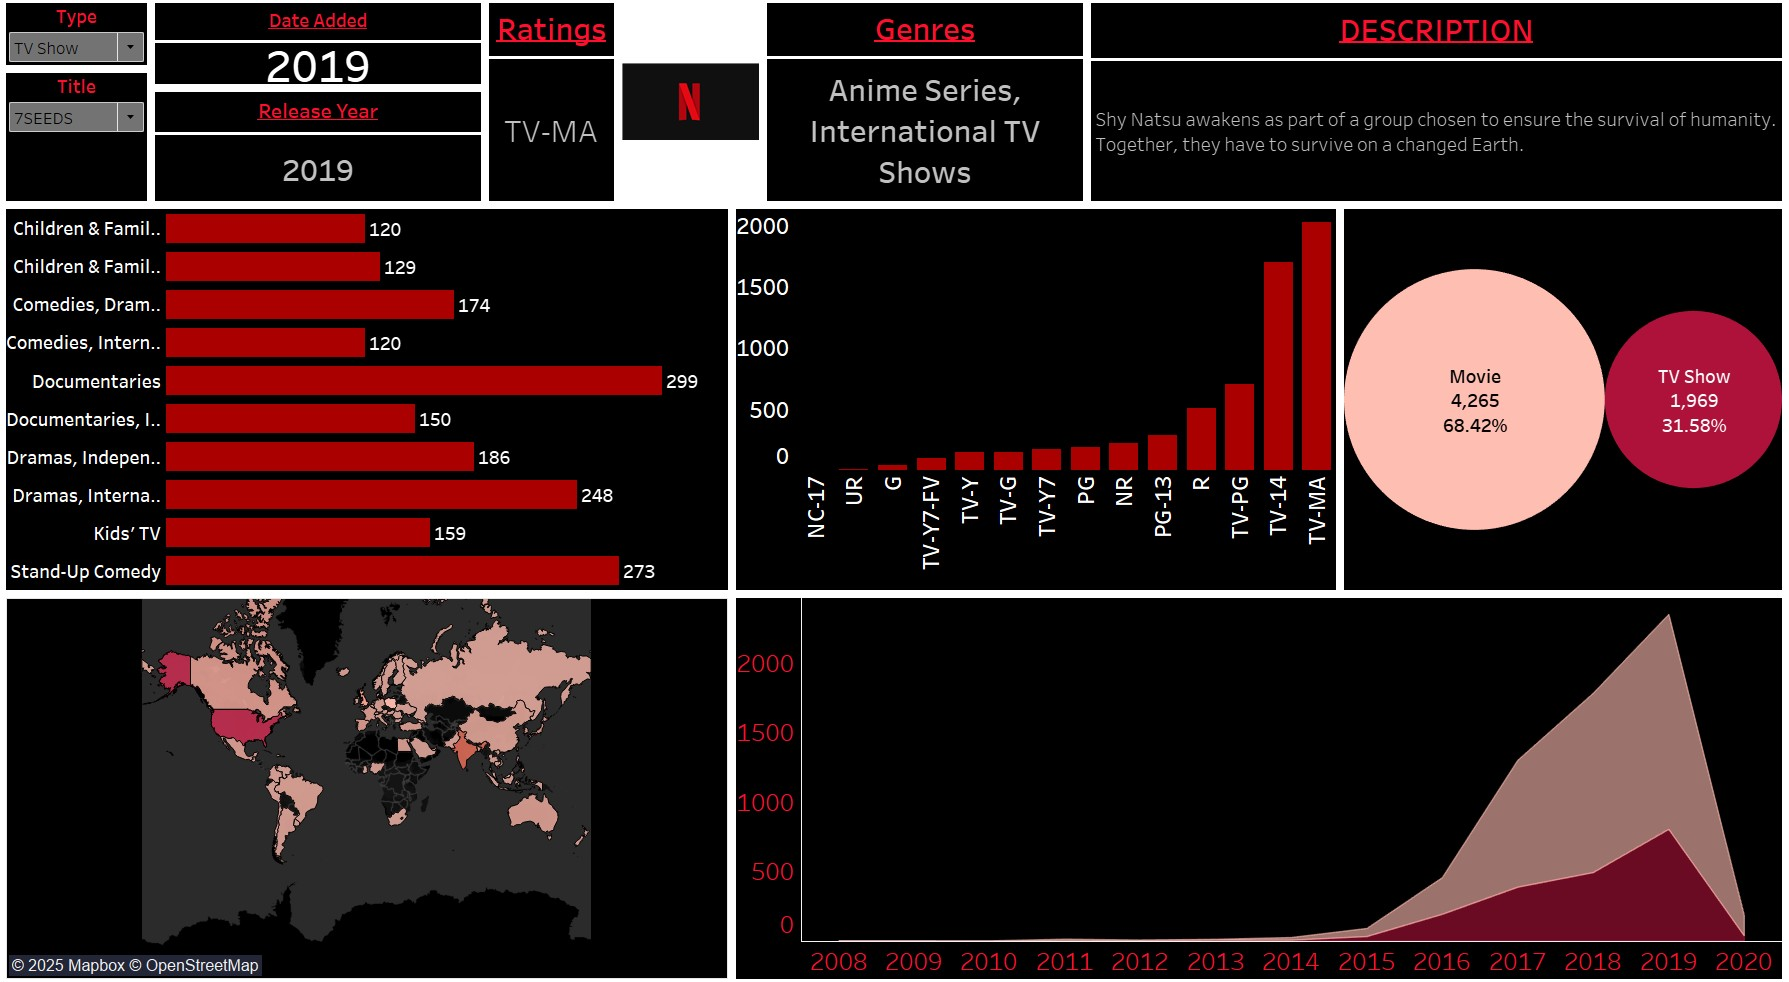

What the dashboard file says about the page in this screenshot:
{"tool":"tableau","page":{"name":"Dashboard 1","canvas":[1800,1000],"ordinal":0},"visuals":[{"type":"filter","title":"Description","param":"[federated.16ycpfl0ovzo6d1cw42rf0bap477].[none:type:nk]","box":[8,8,148.6,70]},{"type":"worksheet","title":"Date added","mark":"Automatic","box":[156.6,8,334.4,88.5]},{"type":"worksheet","title":"Ratings","mark":"Automatic","box":[491,8,133,206]},{"type":"image","param":"C:/Users/KIIT/Desktop/n.jpg","box":[624,8,145,206]},{"type":"worksheet","title":"Genres","mark":"Automatic","box":[769,8,324,206]},{"type":"worksheet","title":"Description","mark":"Automatic","box":[1093,8,699,206]},{"type":"filter","title":"Description","param":"[federated.16ycpfl0ovzo6d1cw42rf0bap477].[none:title:nk]","box":[8,78,148.6,136]},{"type":"worksheet","title":"Release Year","mark":"Automatic","box":[156.6,96.5,334.4,117.5]},{"type":"worksheet","title":"Top 10 genres","mark":"Automatic","rows":["listed_in"],"cols":["show_id"],"box":[8,214,730,389]},{"type":"worksheet","title":"Ratings vs no of shows","mark":"Automatic","rows":["show_id"],"cols":["rating"],"box":[738,214,608,389]},{"type":"worksheet","title":"tv show & movie distribution ","mark":"Circle","box":[1346,214,446,389]},{"type":"worksheet","title":"No of shows by country","mark":"Automatic","box":[8,603,730,389]},{"type":"worksheet","title":"No of movies & tv shows","mark":"Area","rows":["show_id"],"cols":["date_added"],"box":[738,603,1054,389]}]}

Visuals, with their boxes in screenshot pixels (x1, y1, x2, y2), scaled from the page's 1800x1000 canvas onto the 1789x982 screenshot:
"Description" filter: box(8, 8, 156, 77)
"Date added" worksheet: box(156, 8, 488, 95)
"Ratings" worksheet: box(488, 8, 620, 210)
image: box(620, 8, 764, 210)
"Genres" worksheet: box(764, 8, 1086, 210)
"Description" worksheet: box(1086, 8, 1781, 210)
"Description" filter: box(8, 77, 156, 210)
"Release Year" worksheet: box(156, 95, 488, 210)
"Top 10 genres" worksheet: box(8, 210, 733, 592)
"Ratings vs no of shows" worksheet: box(733, 210, 1338, 592)
"tv show & movie distribution " worksheet (Circle marks): box(1338, 210, 1781, 592)
"No of shows by country" worksheet: box(8, 592, 733, 974)
"No of movies & tv shows" worksheet (Area marks): box(733, 592, 1781, 974)
